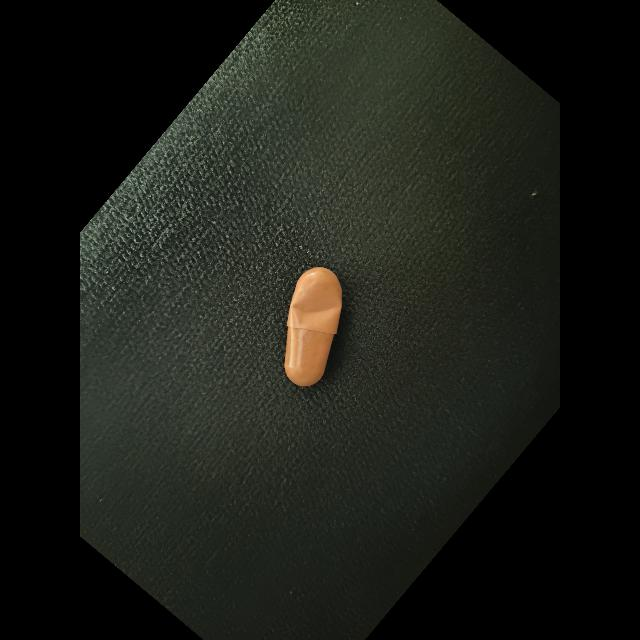Defective Capsule: (290, 283, 341, 328)
